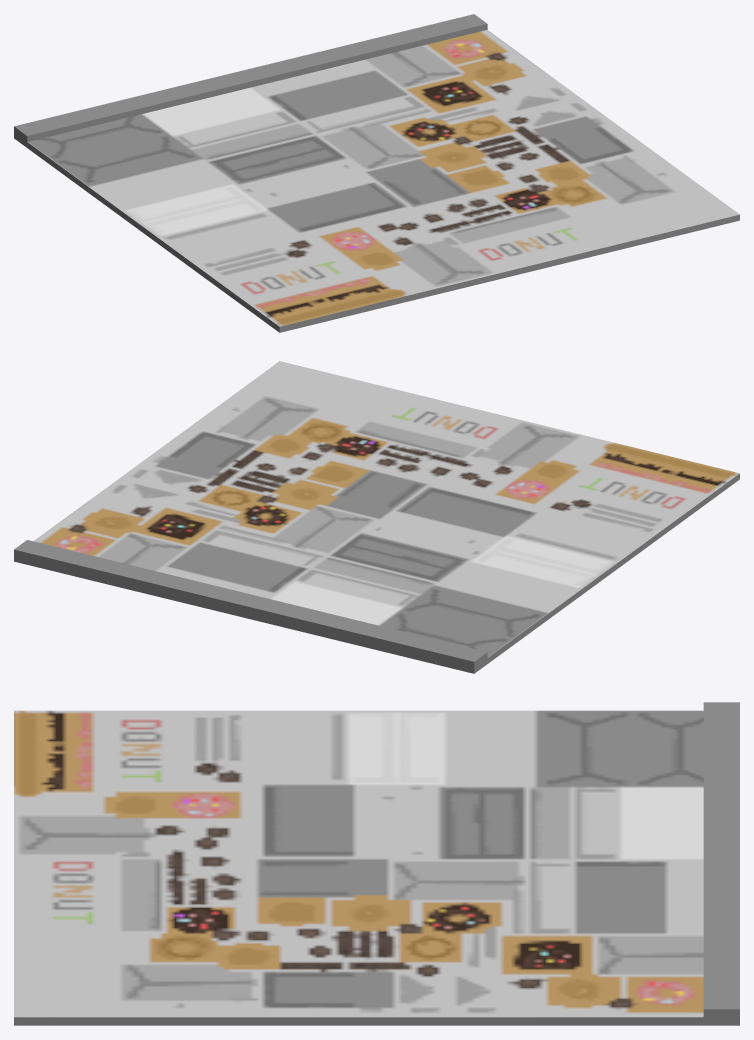
The model's file is Floor_002_B2.FBX.
3 views of the same model, one above another, from view 1: azimuth 30°, elevation 25°; view 2: azimuth 150°, elevation 25°; view 3: azimuth 270°, elevation 25° (orthographic). The views are drawn at different scales.
Visible parts, largest first — view 1: Floor_002_B2; view 2: Floor_002_B2; view 3: Floor_002_B2.
Part boxes in pixels (x1,y1,x2,y2): Floor_002_B2: (14, 14, 739, 332); Floor_002_B2: (14, 361, 739, 673); Floor_002_B2: (14, 702, 739, 1025).
Bounding box in the file's own units: 400 × 400 × 10.
